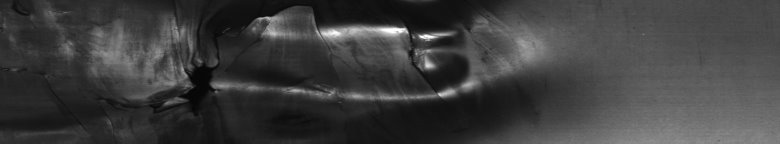ke: (13, 4, 491, 125)
